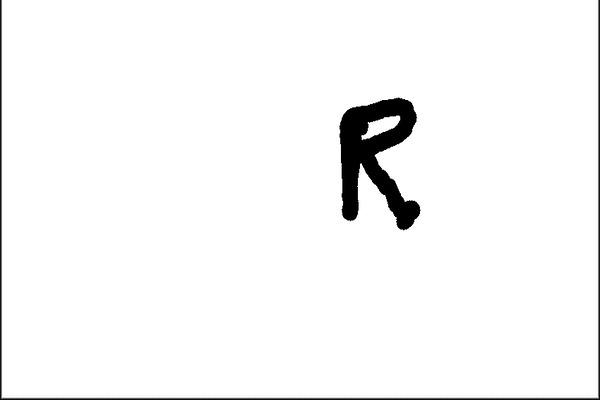R: (317, 85, 446, 234)
